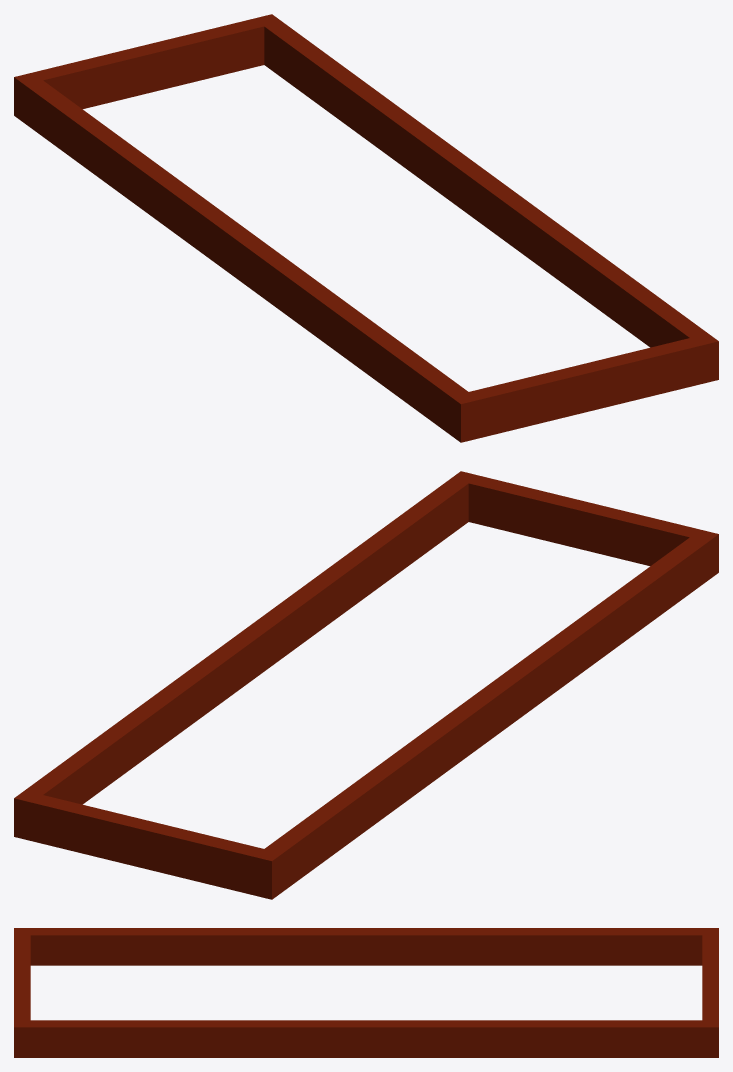
The model's file is corridor_6x20.dae.
3 views of the same model, one above another, from view 1: azimuth 30°, elevation 25°; view 2: azimuth 150°, elevation 25°; view 3: azimuth 270°, elevation 25° (orthographic). The views are drawn at different scales.
Parts seen in each view (by area): view 1: ID2; view 2: ID2; view 3: ID2.
Part boxes in pixels (left/top/right/bottom): ID2: left=14, top=14, right=718, bottom=442; ID2: left=14, top=471, right=718, bottom=899; ID2: left=14, top=928, right=718, bottom=1057.
Bounding box in the file's own units: 7 × 21 × 1.
